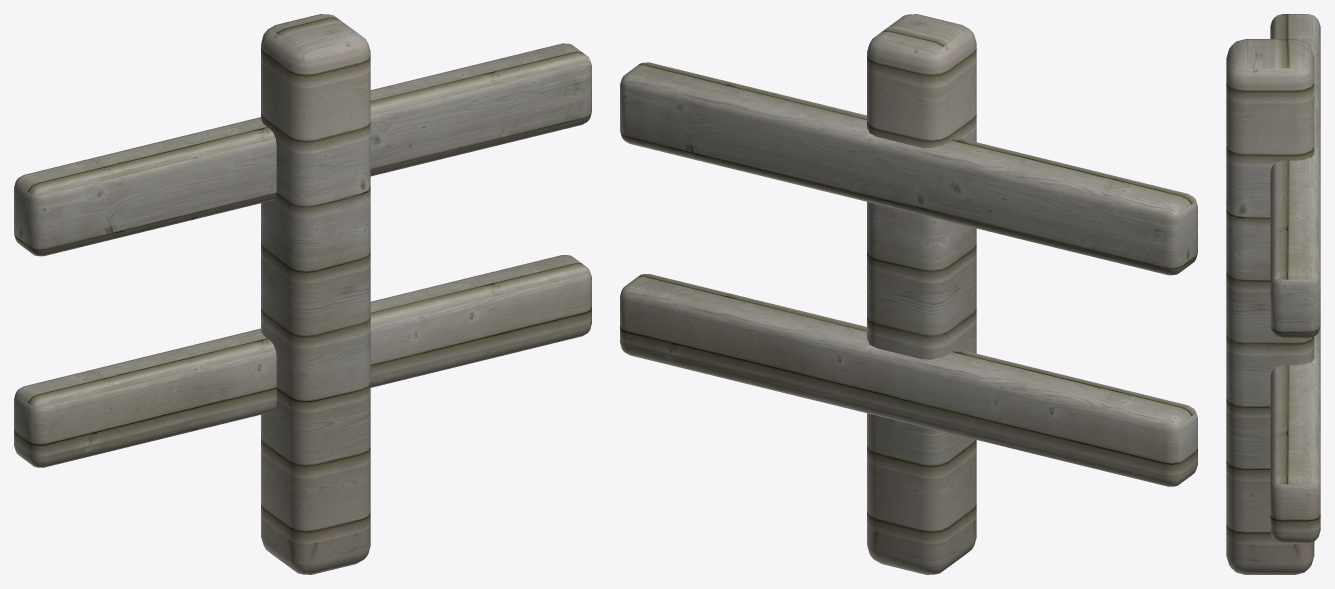
The model's file is deco_fence.glb.
The picture shows the model from 3 angles, left to right: view 1: azimuth 30°, elevation 25°; view 2: azimuth 150°, elevation 25°; view 3: azimuth 270°, elevation 25°; orthographic projection. The views are drawn at different scales.
Visible parts, largest first — view 1: p, r, r.001; view 2: r, r.001, p; view 3: p, r, r.001.
Boxes of the visible parts, left/top/right/bottom form: p: left=261, top=14, right=370, bottom=574; r: left=14, top=43, right=591, bottom=256; r.001: left=14, top=255, right=591, bottom=467; r: left=620, top=62, right=1197, bottom=275; r.001: left=620, top=274, right=1197, bottom=486; p: left=867, top=14, right=976, bottom=574; p: left=1226, top=39, right=1314, bottom=574; r: left=1270, top=14, right=1320, bottom=338; r.001: left=1270, top=326, right=1320, bottom=543.
Size of the model in its own units: 1 by 0.9 by 0.15.
Materials: 1 (1 with a texture image).
